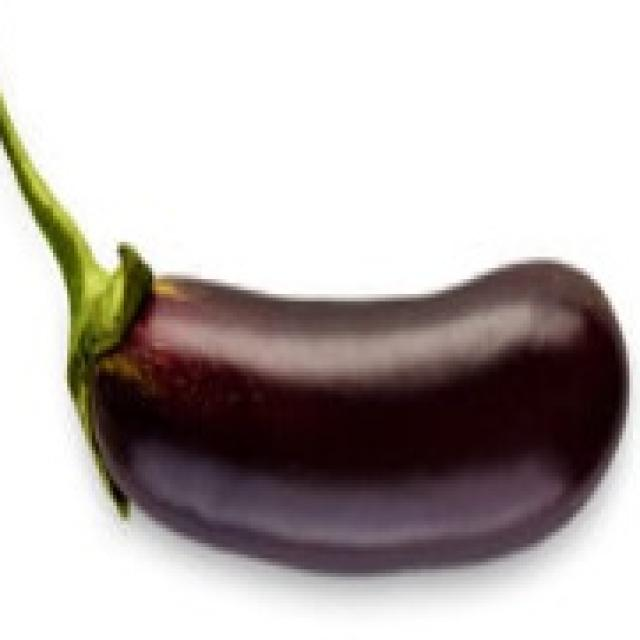eggplant: (56, 249, 612, 573)
